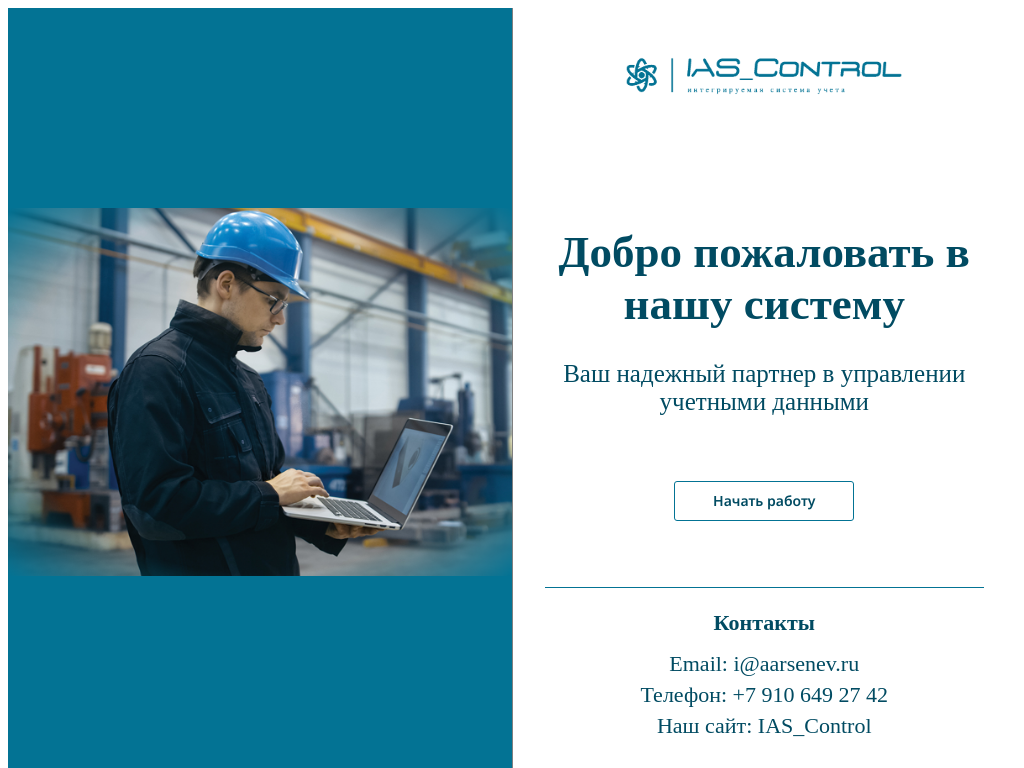
Landing page › Go to login page if click button "Начать работу"
Click the button with test id "nav-start-button" at (764,501), box top-left (674, 481), bottom-right (854, 521)
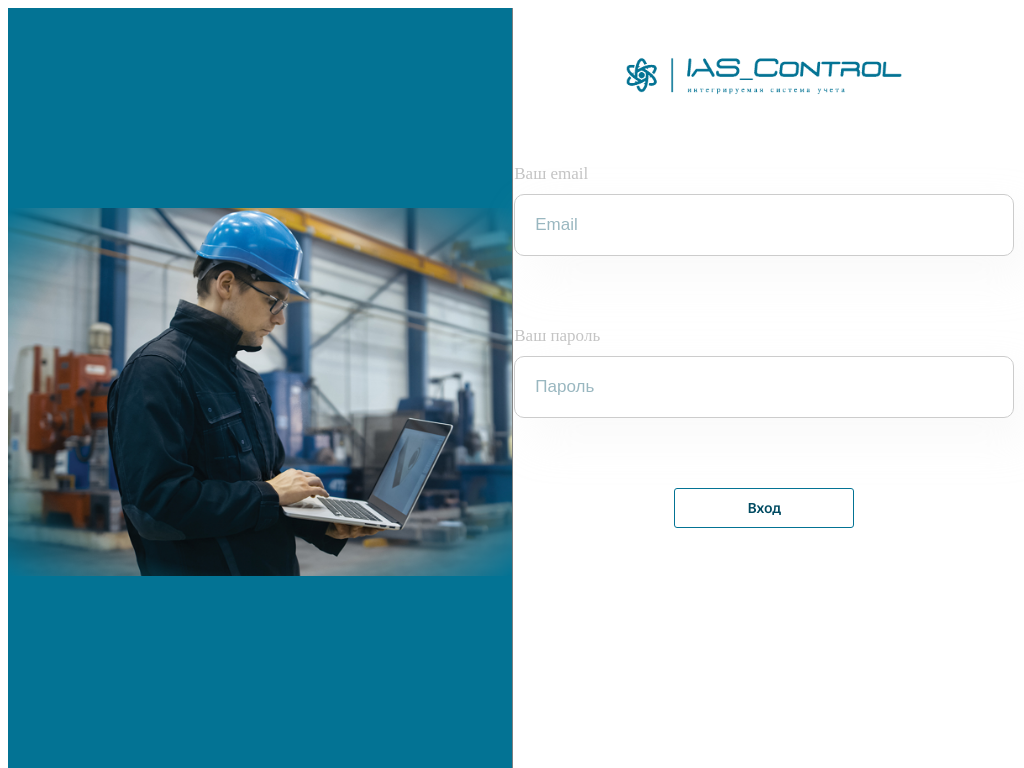
Check: the text "Ваш email" is shown, box top-left (514, 164), bottom-right (588, 183)
Check: the text "Ваш пароль" is shown, box top-left (514, 326), bottom-right (600, 345)
Check: the button "Вход" is shown, box top-left (674, 488), bottom-right (854, 528)
